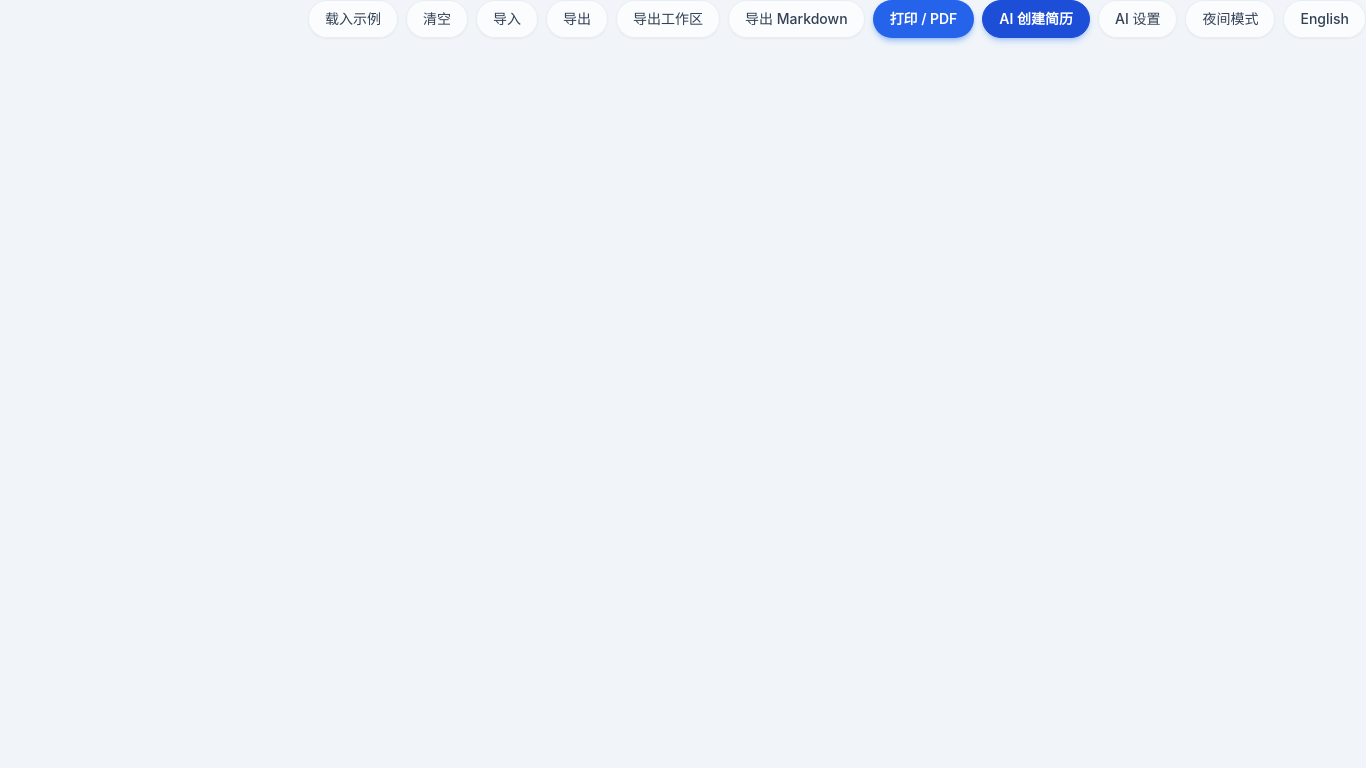
Test: AI provider settings dialog accessibility › retains the saved session configuration after the settings dialog closes
This screenshot has width=1366, height=768.
Step 1. Click the button "AI 设置" → (1138, 19), box [1098,0,1178,38]
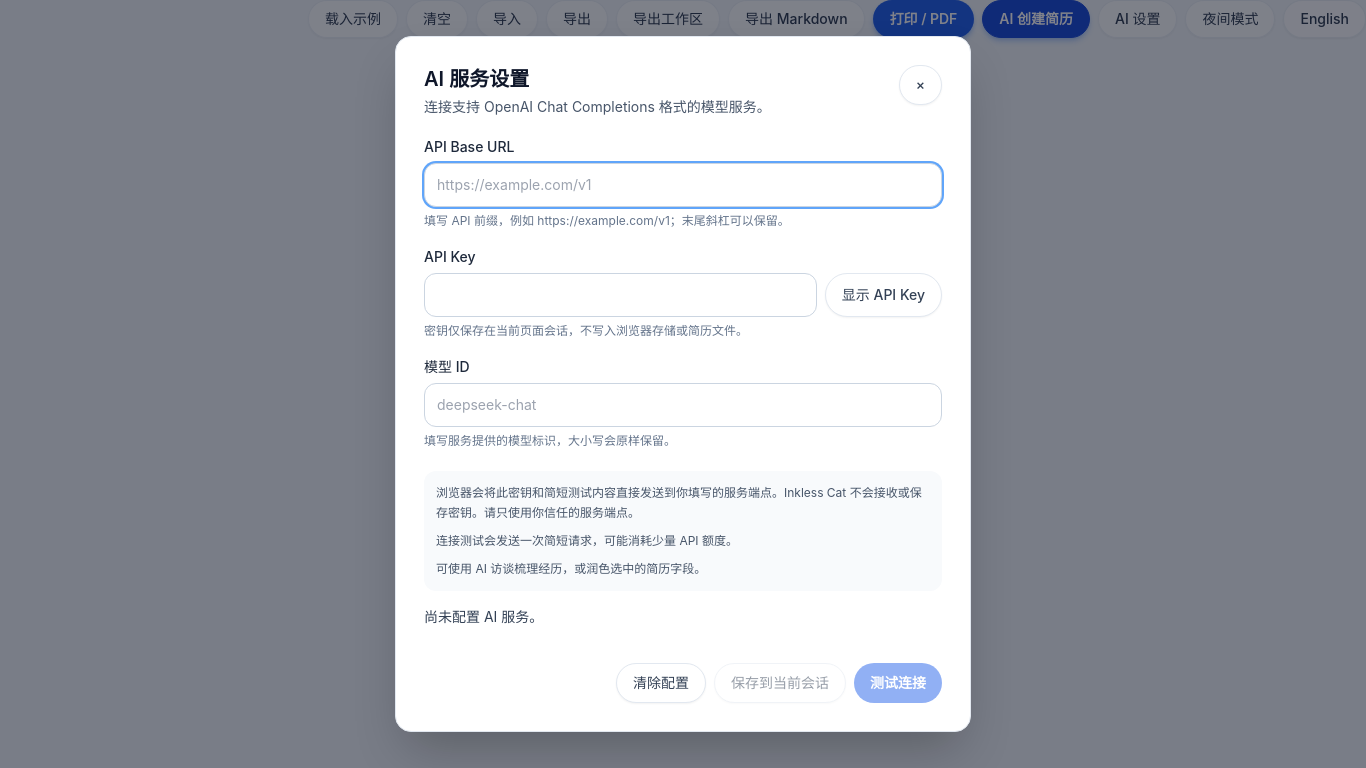
Step 2. Type "https://provider.example/v1" into the field labelled "API Base URL" → (683, 185), box [424,163,942,207]
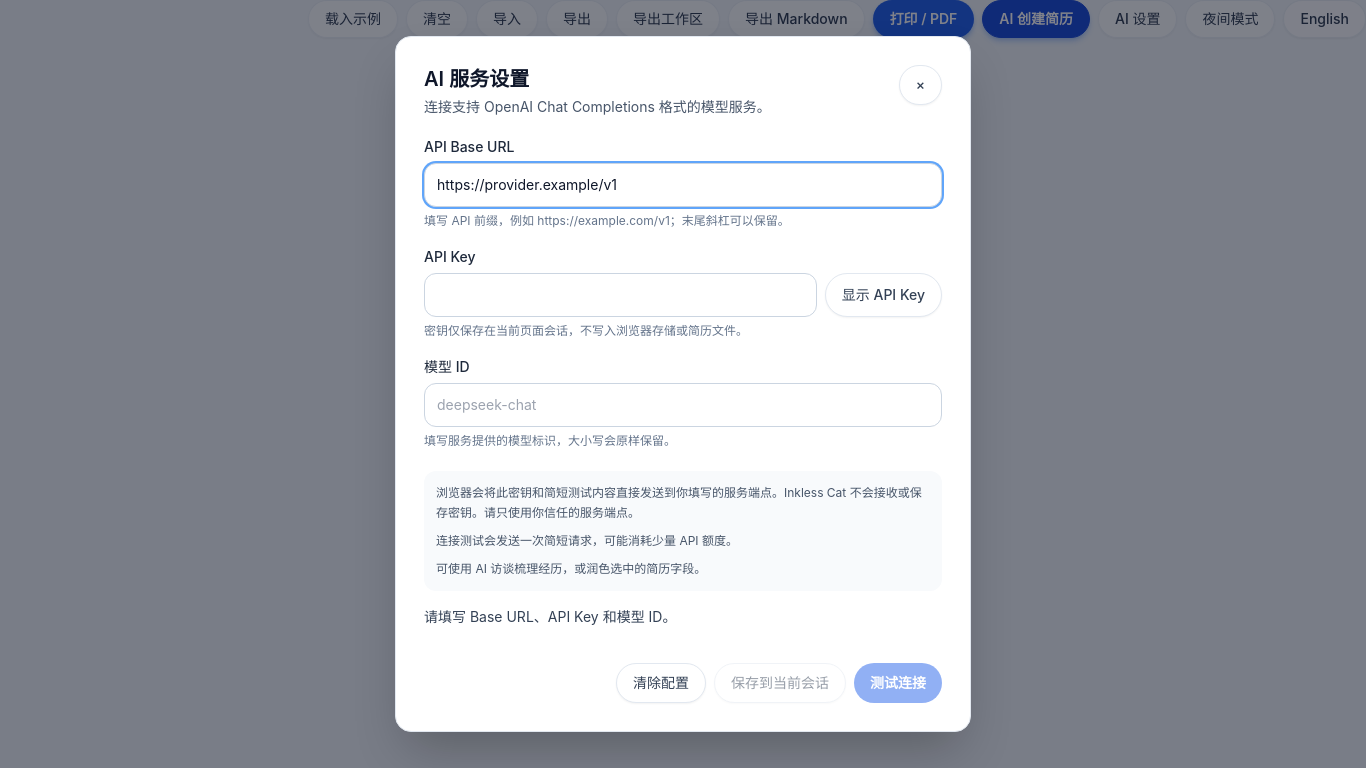
Step 3. Type "runtime-secret-test-only" into the password field labelled "API Key" → (620, 295), box [424,273,817,317]
Step 4. Type "saved-model" into the field labelled "模型 ID" → (683, 405), box [424,383,942,427]
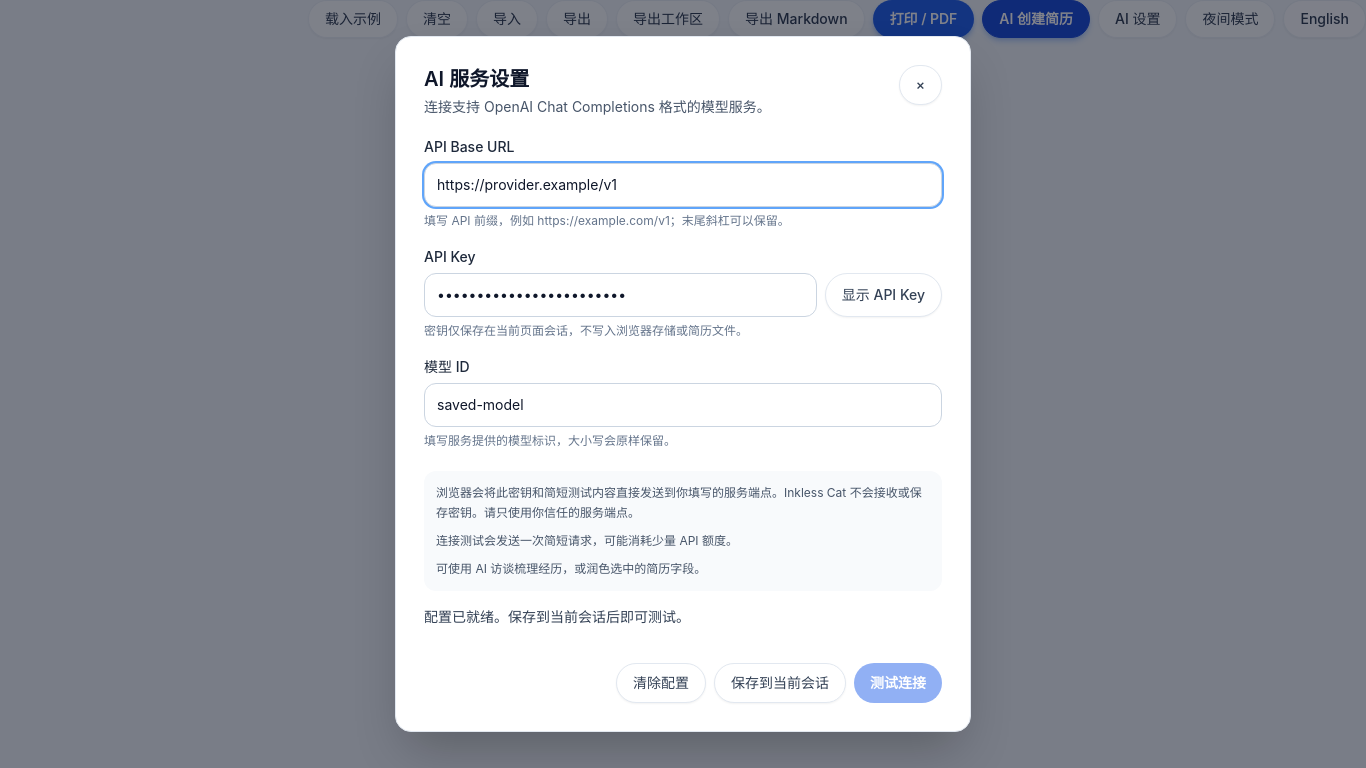
Step 5. Click the button "保存到当前会话" → (780, 683), box [714,663,846,703]
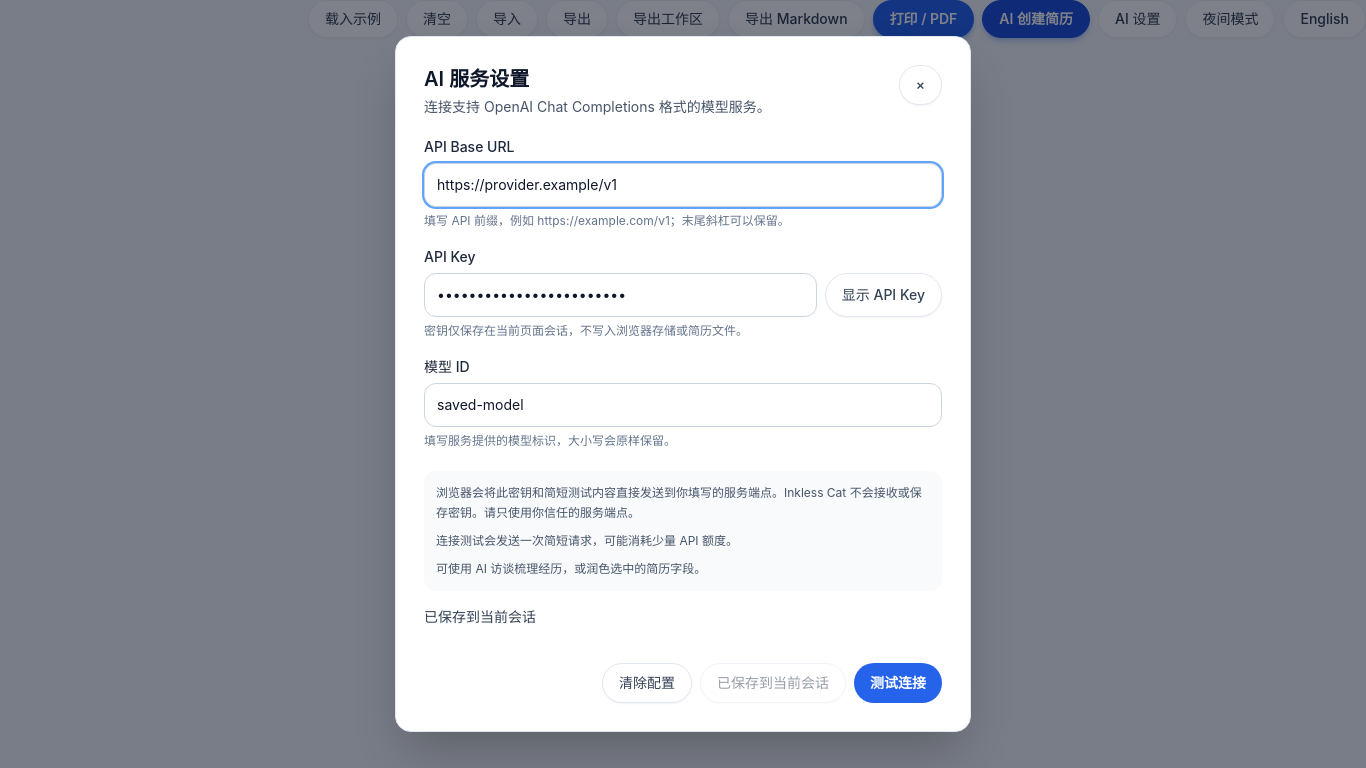
Step 6. Click the button named "关闭 AI 设置" → (920, 85), box [899,65,942,105]
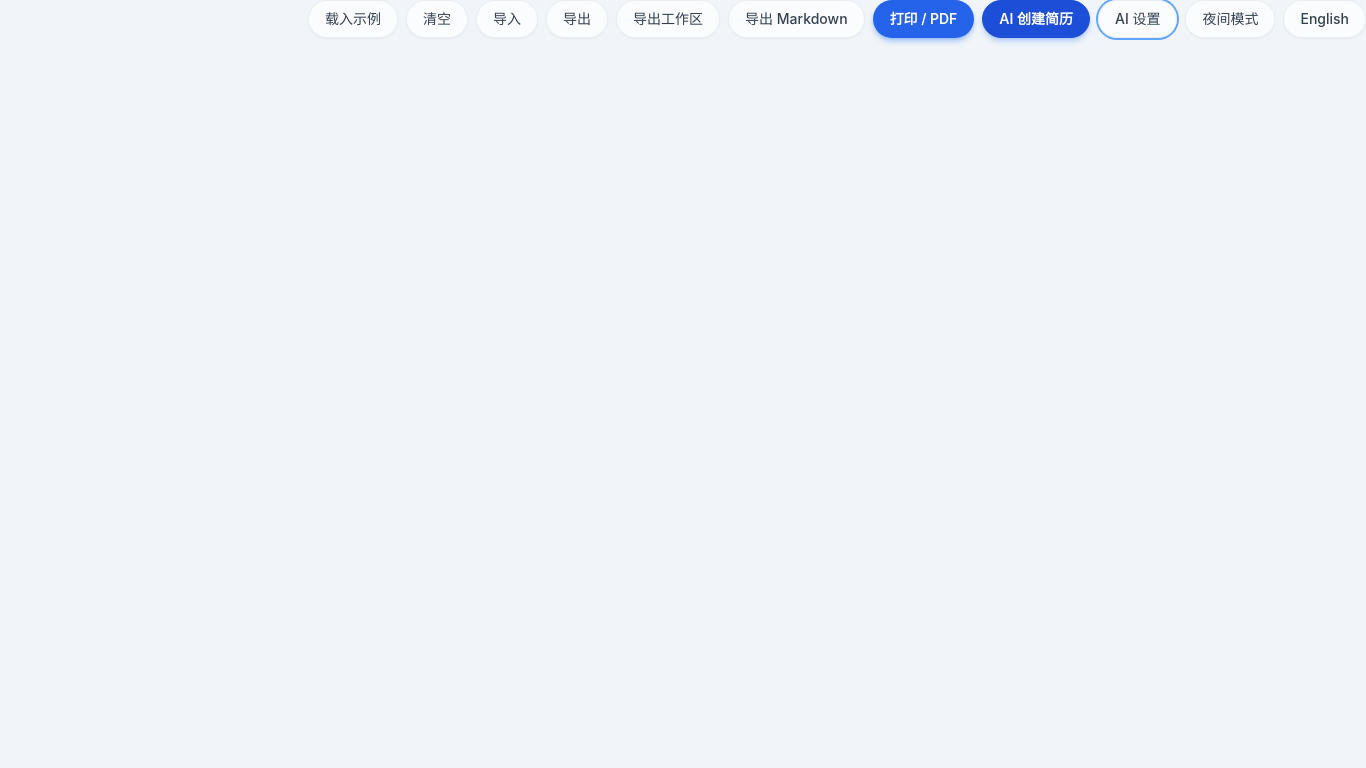
Expected: the heading "AI 服务设置" is gone
Step 7. Click the button "AI 设置" → (1138, 19), box [1098,0,1178,38]
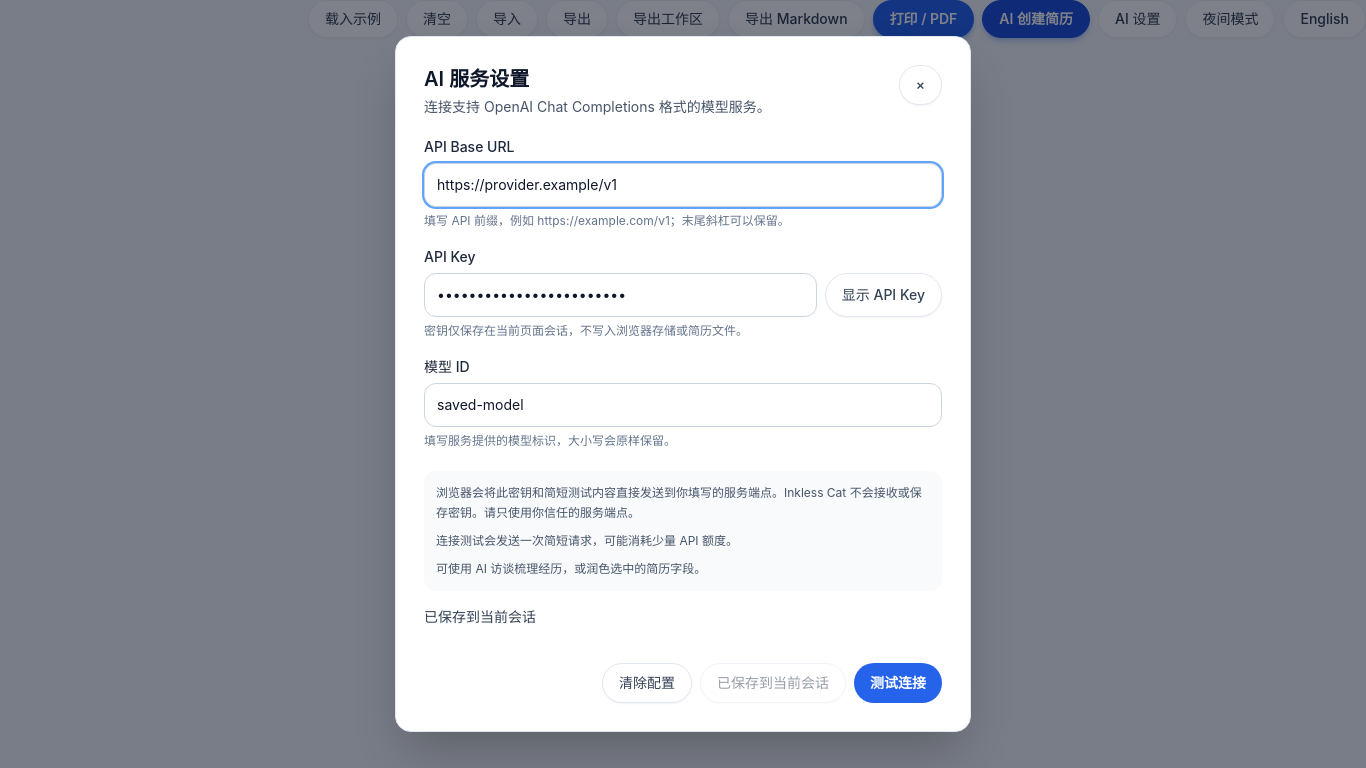
Expected: the field labelled "API Base URL" holds "https://provider.example/v1", [424,163,942,207]
Expected: the password field labelled "API Key" holds "runtime-secret-test-only", [424,273,817,317]
Expected: the field labelled "模型 ID" holds "saved-model", [424,383,942,427]
